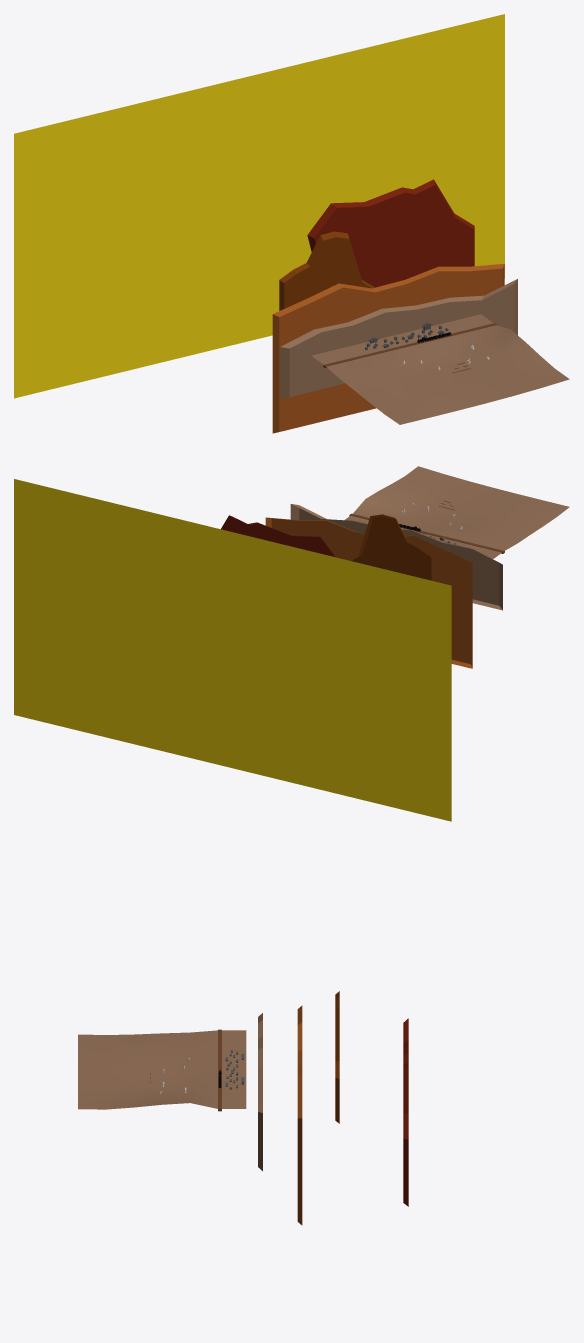
The model's file is Western_Level.FBX.
The picture shows the model from 3 angles, top to bottom: view 1: azimuth 30°, elevation 25°; view 2: azimuth 150°, elevation 25°; view 3: azimuth 270°, elevation 25°; orthographic projection. The views are drawn at different scales.
Visible parts, largest first — view 1: Plane006, Plane001, Plane005, Plane004, Plane002, Plane003; view 2: Plane006, Plane001, Plane005, Plane003, Plane002, Plane004; view 3: Plane001, Plane005, Plane004, Plane002, Plane003.
Part boxes in pixels (x1,y1,x2,y2): Plane006: [14, 14, 504, 398]; Plane001: [311, 314, 569, 424]; Plane005: [272, 263, 504, 433]; Plane004: [307, 179, 474, 287]; Plane002: [280, 279, 517, 398]; Plane003: [279, 231, 374, 310]; Plane006: [14, 479, 451, 821]; Plane001: [344, 466, 569, 558]; Plane005: [265, 517, 472, 668]; Plane003: [351, 514, 431, 580]; Plane002: [290, 504, 502, 610]; Plane004: [221, 515, 335, 557]; Plane001: [78, 1030, 246, 1109]; Plane005: [297, 1005, 302, 1225]; Plane004: [403, 1018, 408, 1206]; Plane002: [258, 1013, 262, 1171]; Plane003: [335, 991, 339, 1123].
Bounding box in the file's own units: 9818 × 5060 × 10148.
